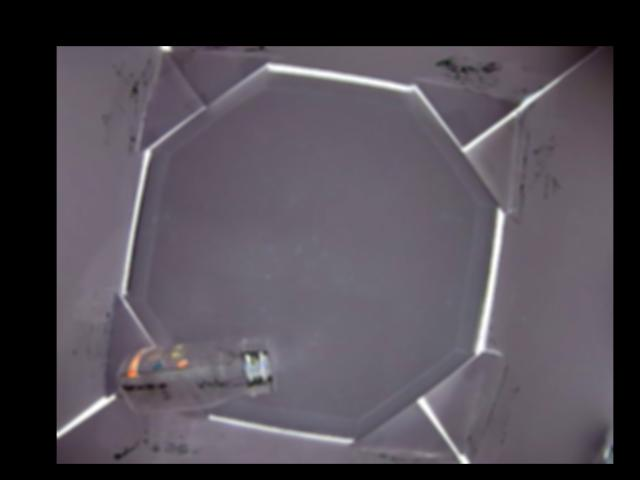Bottle: (115, 336, 278, 416)
